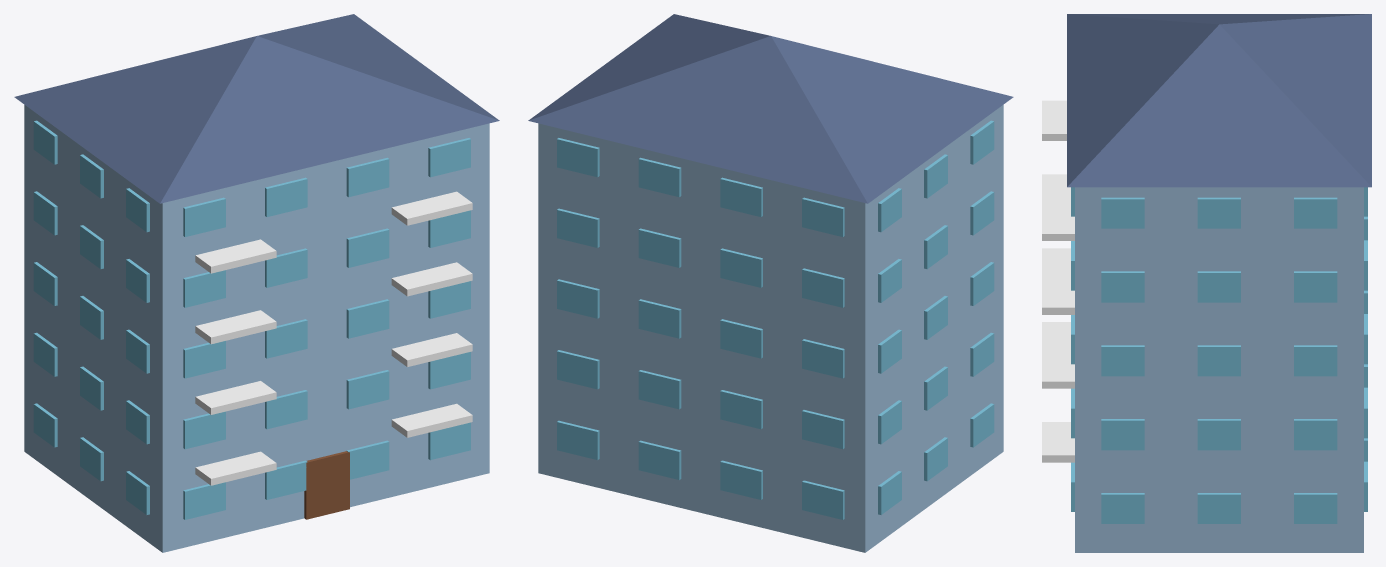
Rendered from apartment_2.glb.
The picture shows the model from 3 angles, left to right: view 1: azimuth 30°, elevation 25°; view 2: azimuth 150°, elevation 25°; view 3: azimuth 270°, elevation 25°; orthographic projection. The views are drawn at different scales.
Visible parts, largest first — view 1: apartment_2_wall_blue, apartment_2_roof_slate, apartment_2_window, apartment_2_white, apartment_2_door; view 2: apartment_2_wall_blue, apartment_2_roof_slate, apartment_2_window; view 3: apartment_2_wall_blue, apartment_2_roof_slate, apartment_2_window, apartment_2_white.
Part boxes in pixels (x1,y1,x2,y2): apartment_2_wall_blue: [24, 105, 489, 552]; apartment_2_roof_slate: [14, 14, 499, 203]; apartment_2_window: [33, 120, 470, 519]; apartment_2_white: [195, 191, 472, 485]; apartment_2_door: [304, 451, 349, 519]; apartment_2_wall_blue: [538, 105, 1003, 552]; apartment_2_roof_slate: [528, 14, 1013, 203]; apartment_2_window: [557, 120, 994, 519]; apartment_2_wall_blue: [1075, 187, 1363, 552]; apartment_2_roof_slate: [1067, 14, 1371, 187]; apartment_2_window: [1071, 187, 1367, 523]; apartment_2_white: [1042, 100, 1074, 462].
Bounding box in the file's own units: 15.6 × 18.7 × 12.55.
